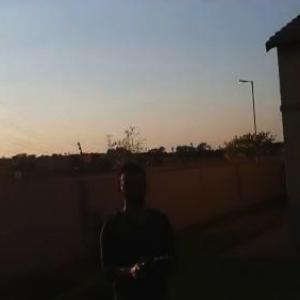follow: (96, 154, 182, 299)
